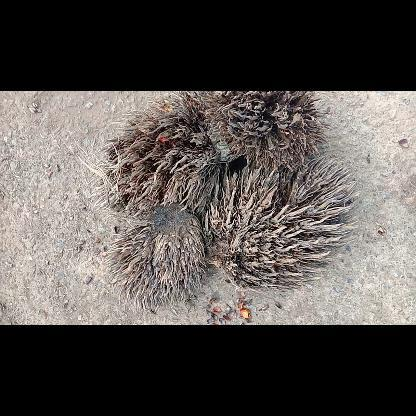Janjang kosong: (85, 90, 236, 222), (204, 159, 354, 289), (105, 204, 207, 308), (204, 91, 328, 169)
